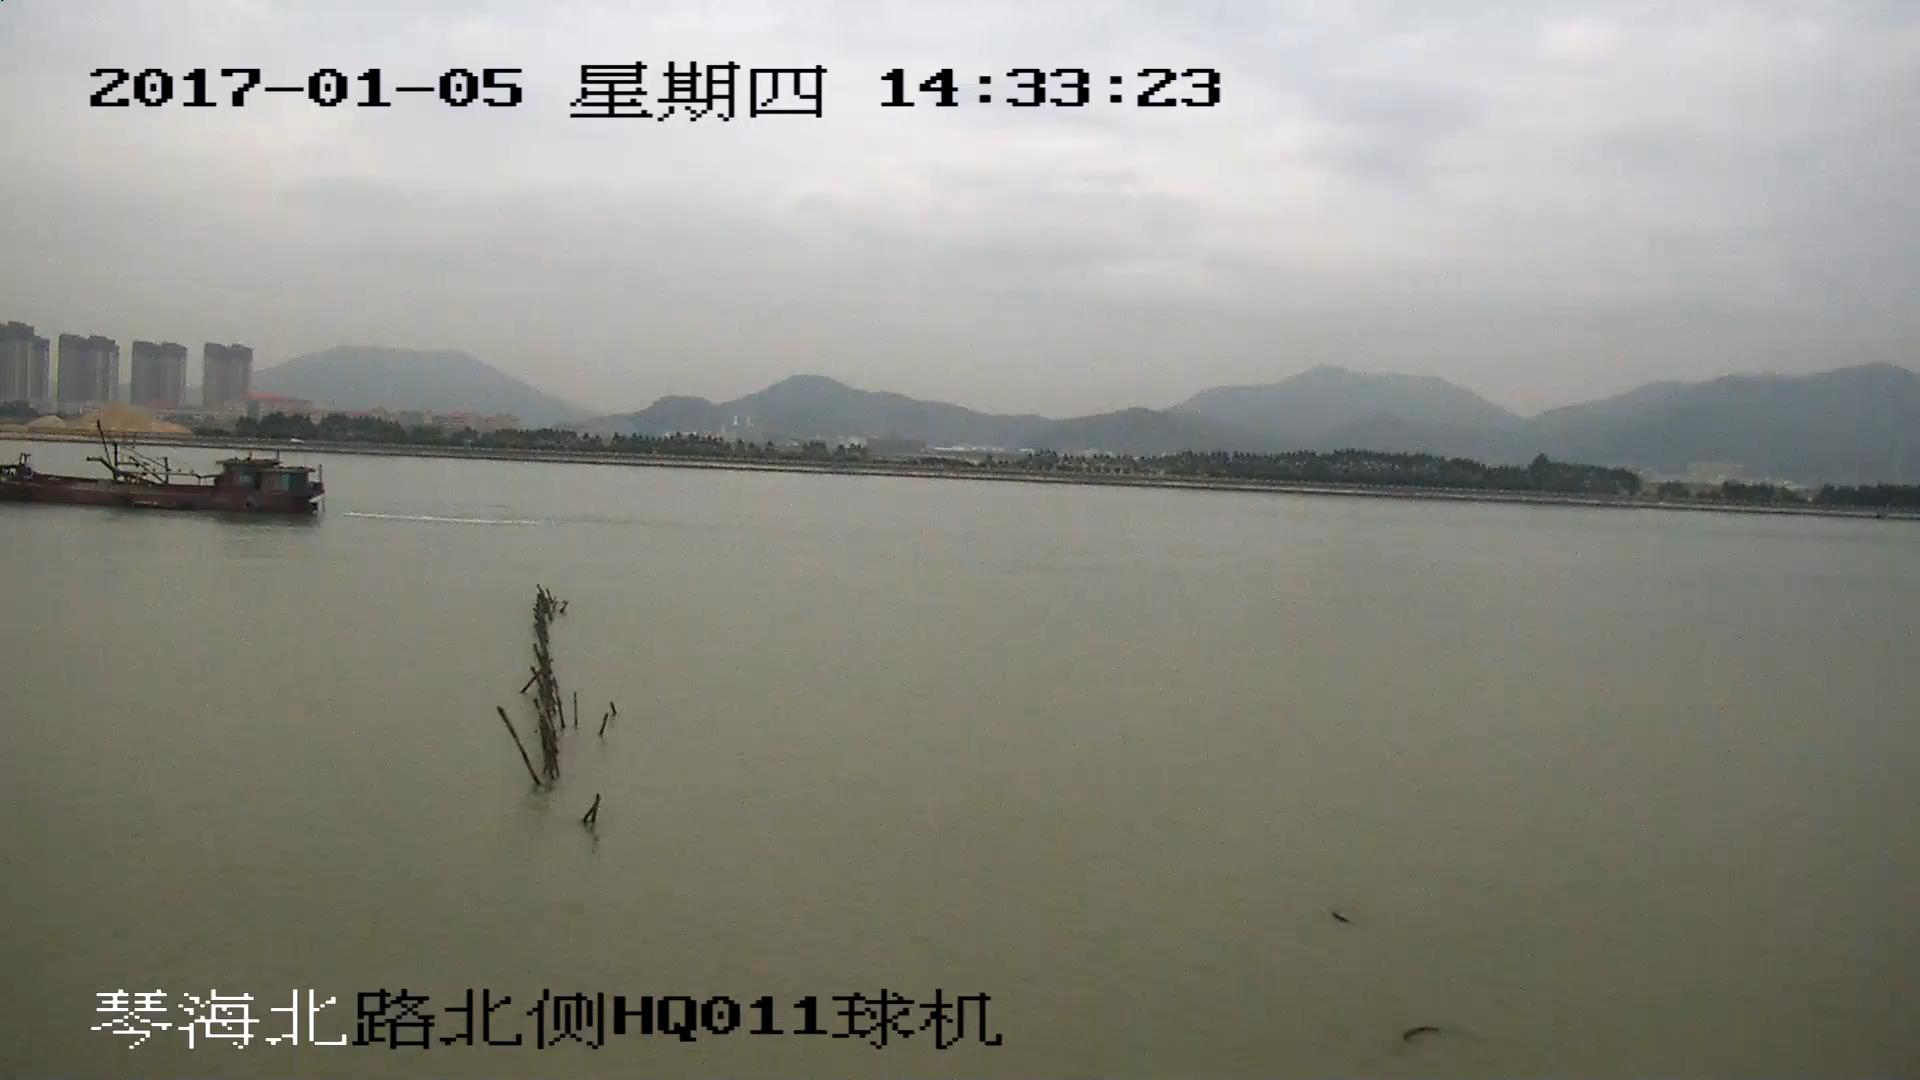fishing boat: (1, 443, 327, 515)
